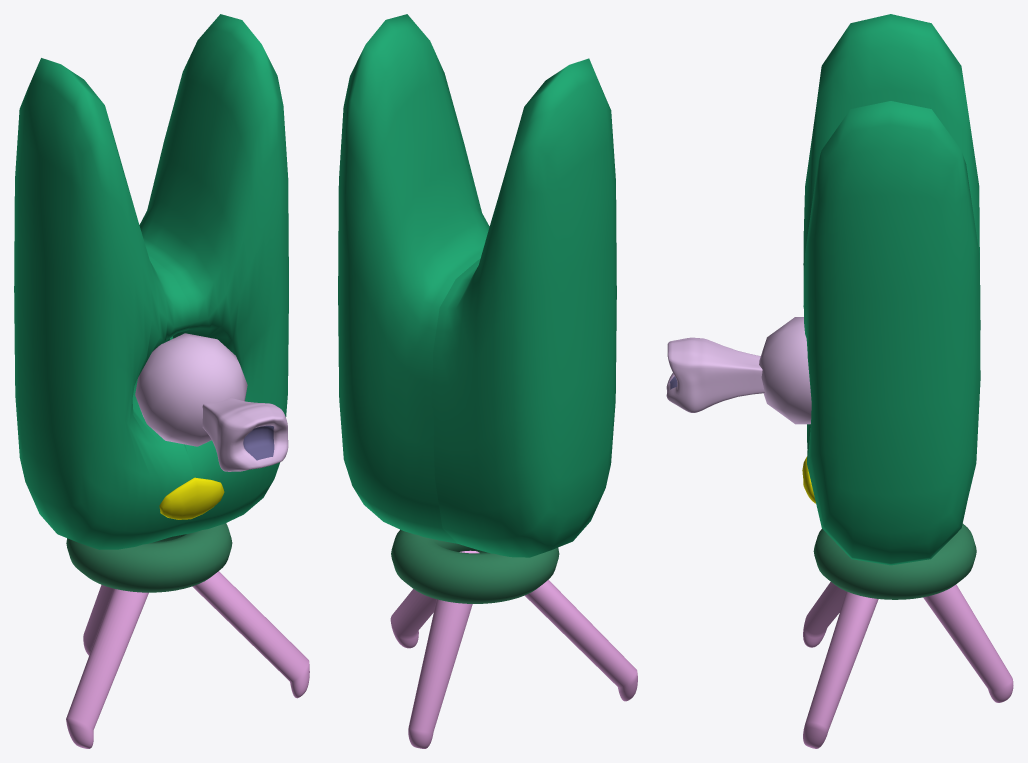
Rendered from turret-bug.glb.
3 renders of one model, left to right at view 1: azimuth 30°, elevation 25°; view 2: azimuth 150°, elevation 25°; view 3: azimuth 270°, elevation 25°, orthographic. The views are drawn at different scales.
Parts seen in each view (by area): view 1: critter-turret-body, critter-turret-gun; view 2: critter-turret-body; view 3: critter-turret-body, critter-turret-gun.
Boxes of the visible parts, x1,y1,x2,y2 form: critter-turret-body: [14, 14, 309, 748]; critter-turret-gun: [135, 333, 288, 471]; critter-turret-body: [338, 14, 637, 748]; critter-turret-body: [802, 14, 1013, 748]; critter-turret-gun: [666, 317, 811, 424].
Bounding box in the file's own units: 0.9821 × 2.56 × 1.25.
